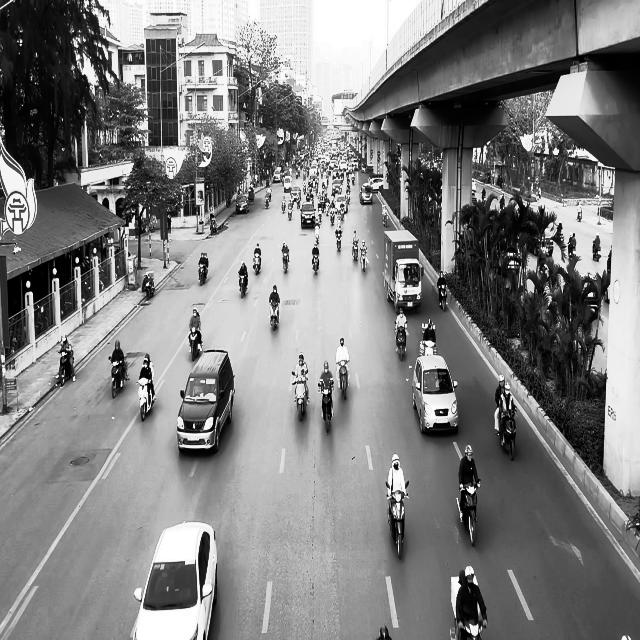car: (132, 520, 218, 640), (176, 348, 235, 454), (406, 354, 459, 434), (300, 202, 316, 228), (235, 194, 249, 214)
motorbike: (385, 480, 409, 559), (456, 480, 481, 546), (498, 406, 517, 460), (291, 371, 309, 422), (108, 356, 129, 398), (318, 379, 334, 433), (136, 376, 155, 421), (55, 350, 75, 387), (336, 360, 349, 399), (394, 321, 407, 360), (188, 328, 203, 361), (268, 301, 280, 330), (142, 270, 154, 298), (238, 272, 248, 298), (198, 260, 208, 286), (438, 285, 447, 311), (253, 252, 261, 274), (360, 250, 368, 272), (592, 242, 601, 261), (312, 250, 319, 274), (282, 251, 289, 274), (336, 226, 342, 252), (352, 240, 358, 260)
truck: (383, 229, 423, 314)
